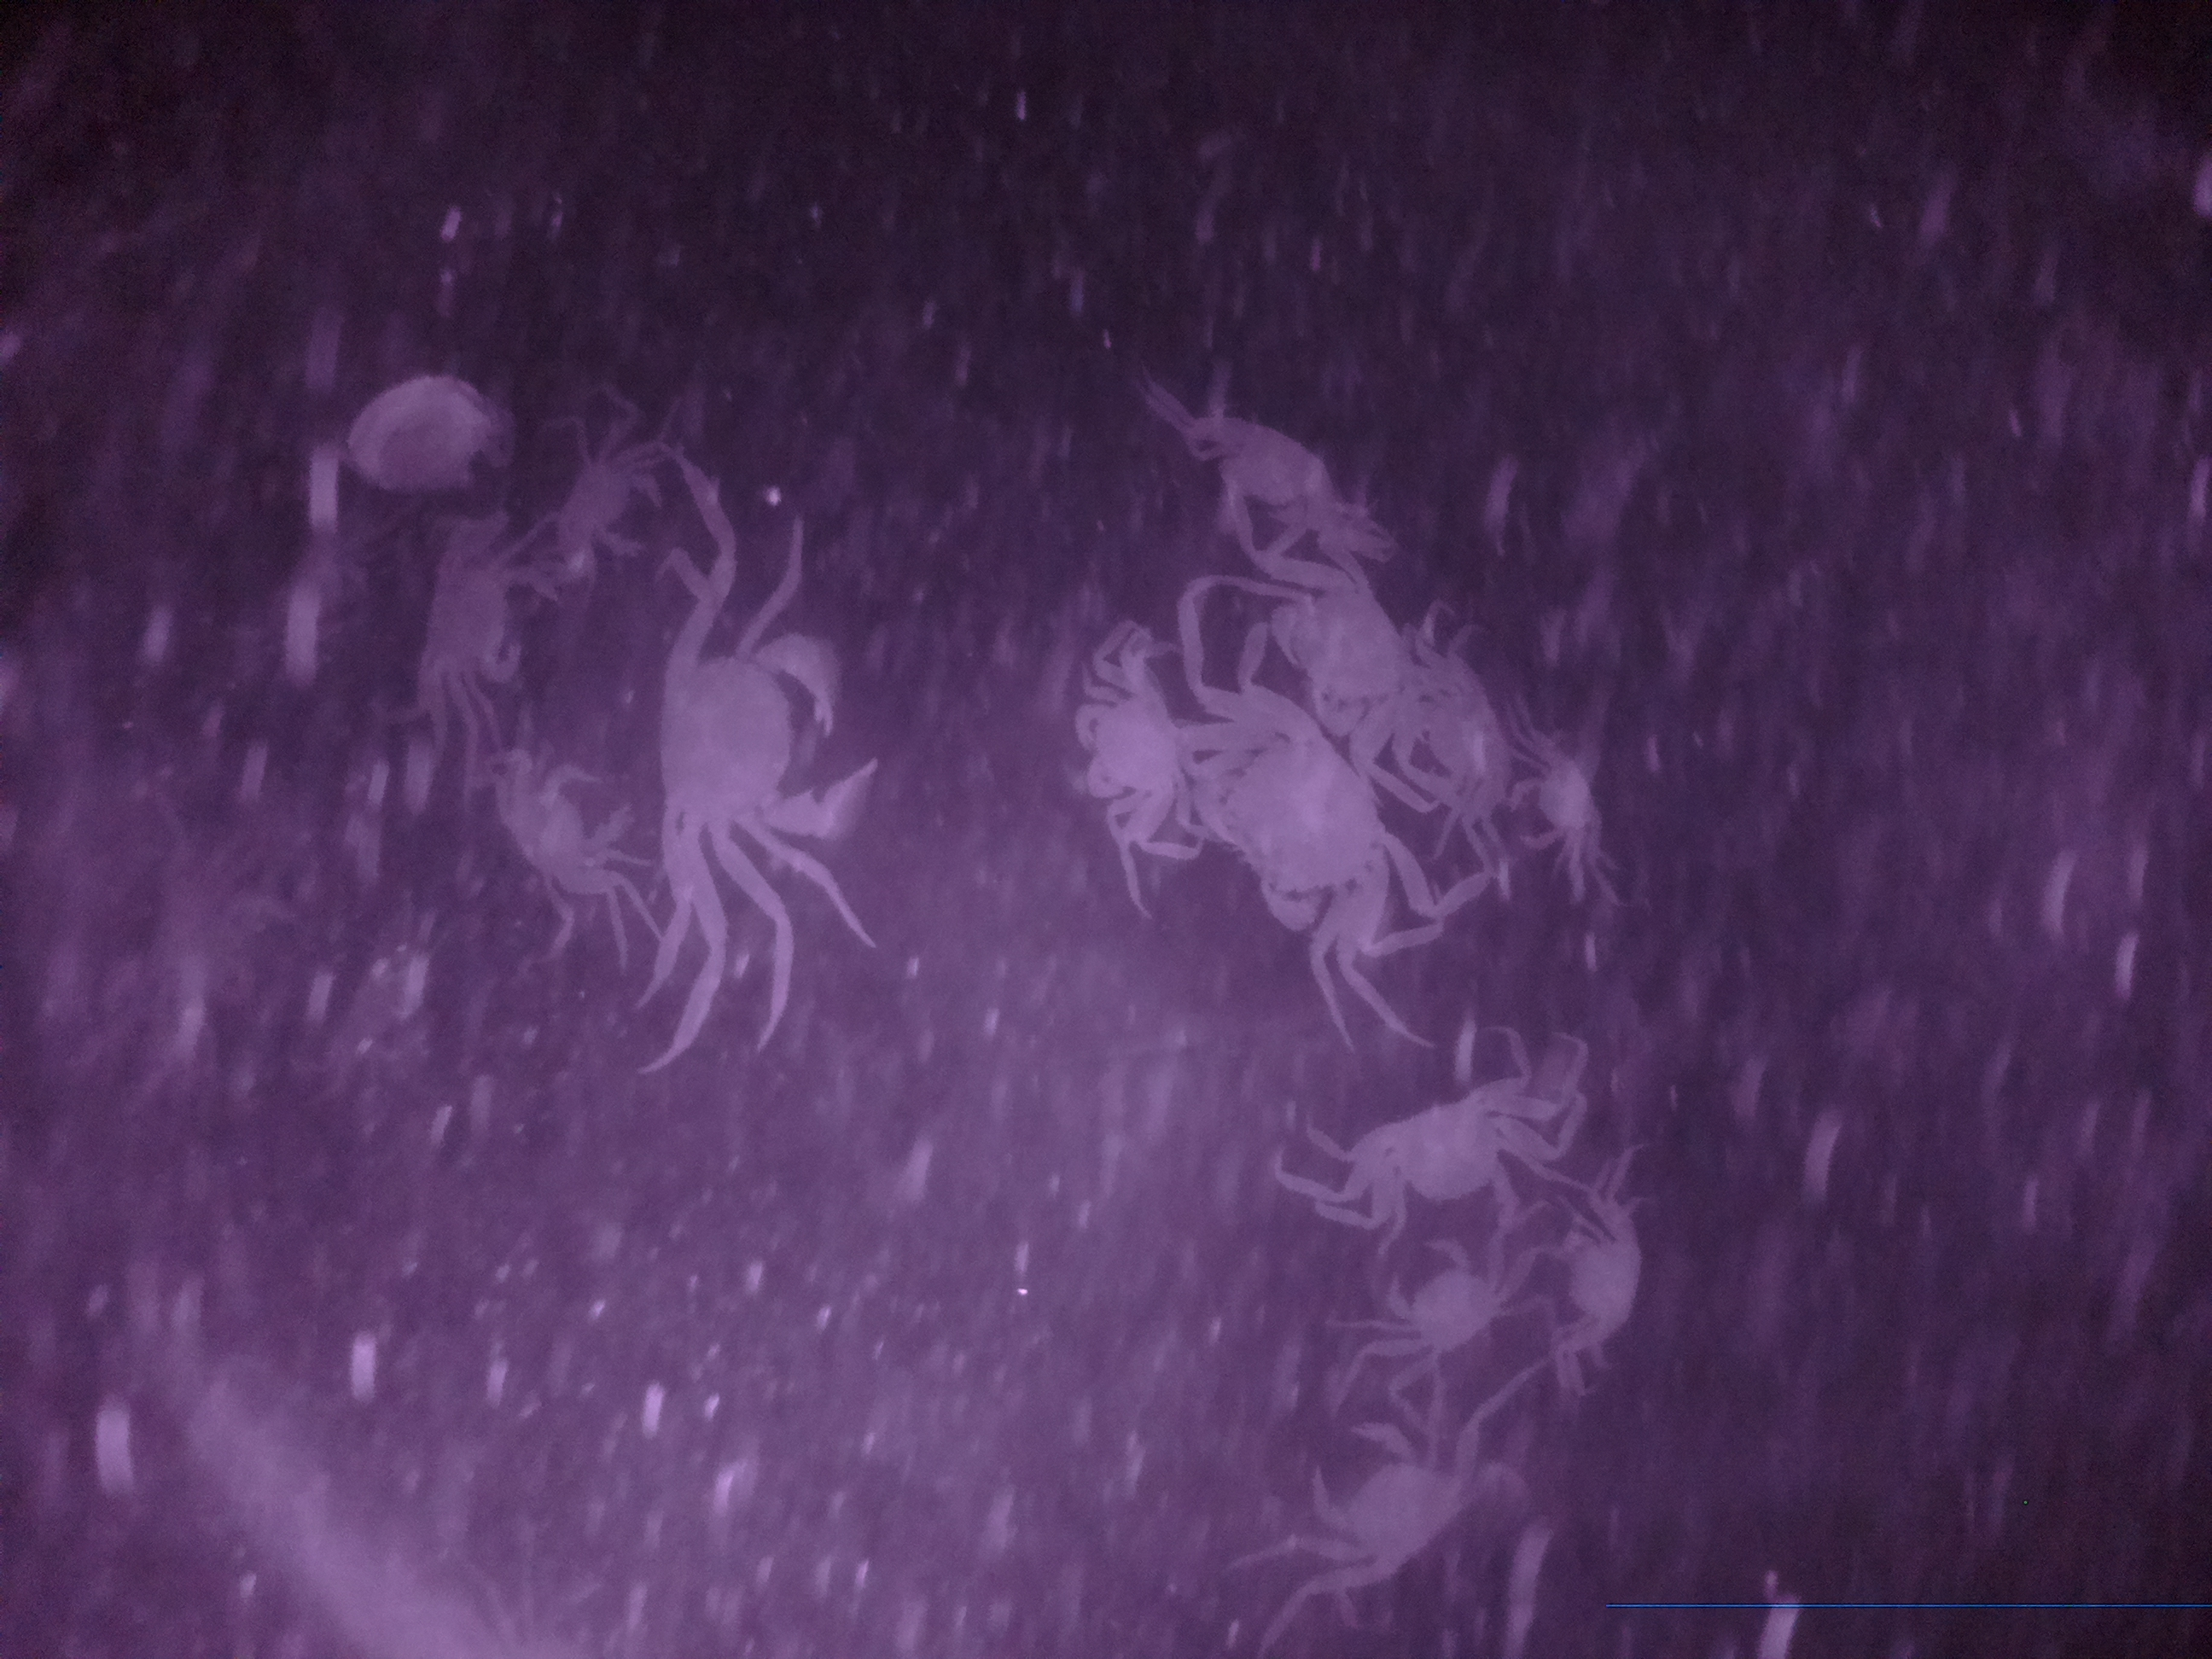Crab: (629, 577, 899, 871), (1296, 1066, 1547, 1234), (1284, 1412, 1475, 1608), (1254, 554, 1433, 751), (394, 532, 557, 697), (1059, 655, 1198, 828), (1374, 1229, 1526, 1377), (482, 749, 631, 897), (1501, 742, 1620, 864)
